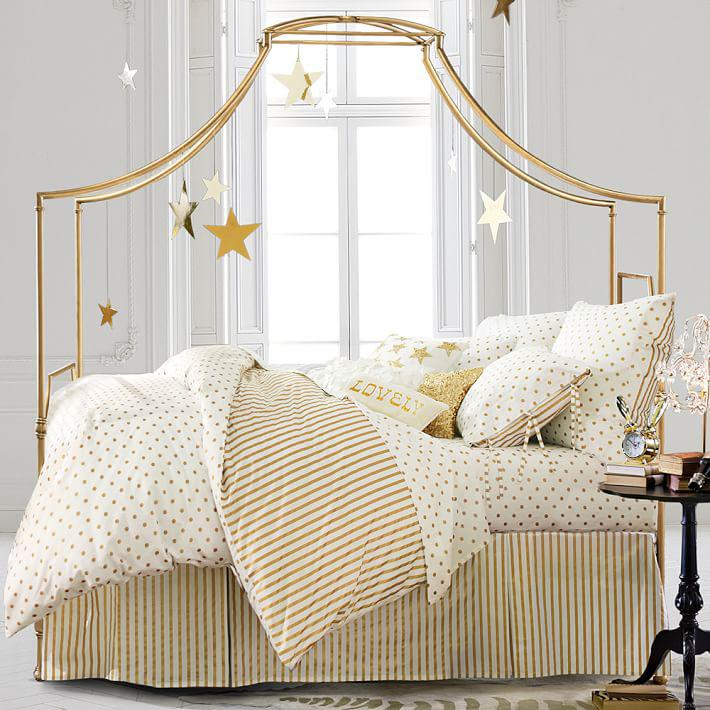bed: (31, 297, 695, 695)
